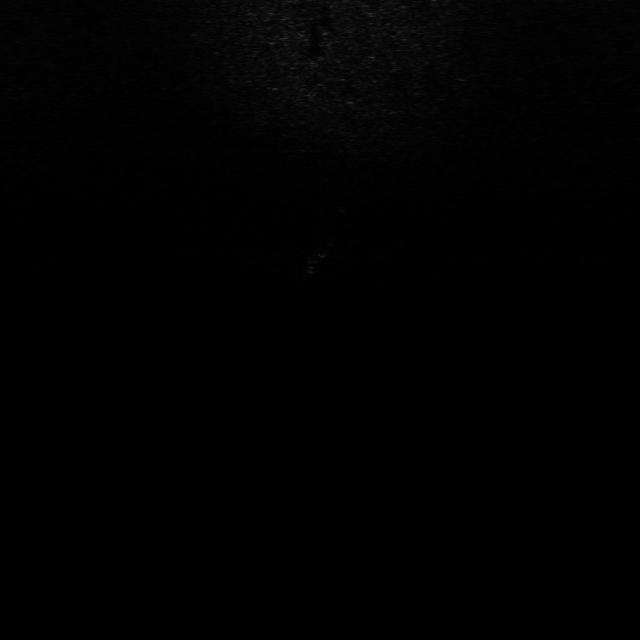human body: (313, 206, 347, 281)
